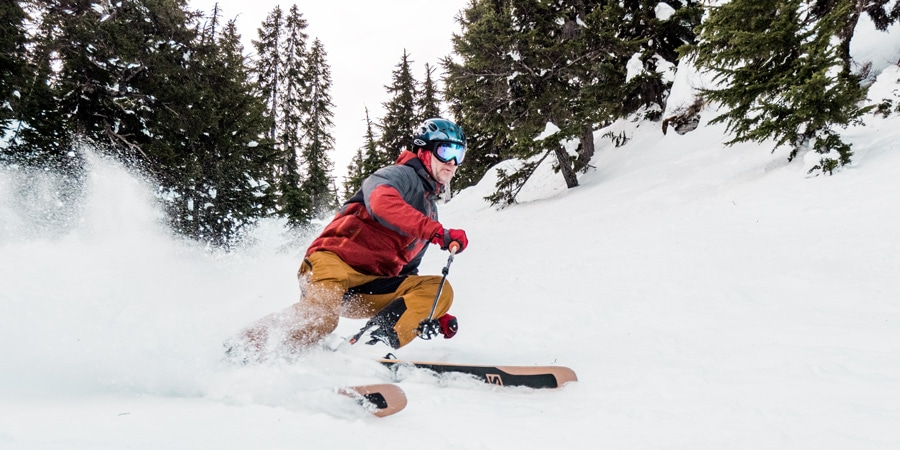skier: (222, 115, 586, 441)
